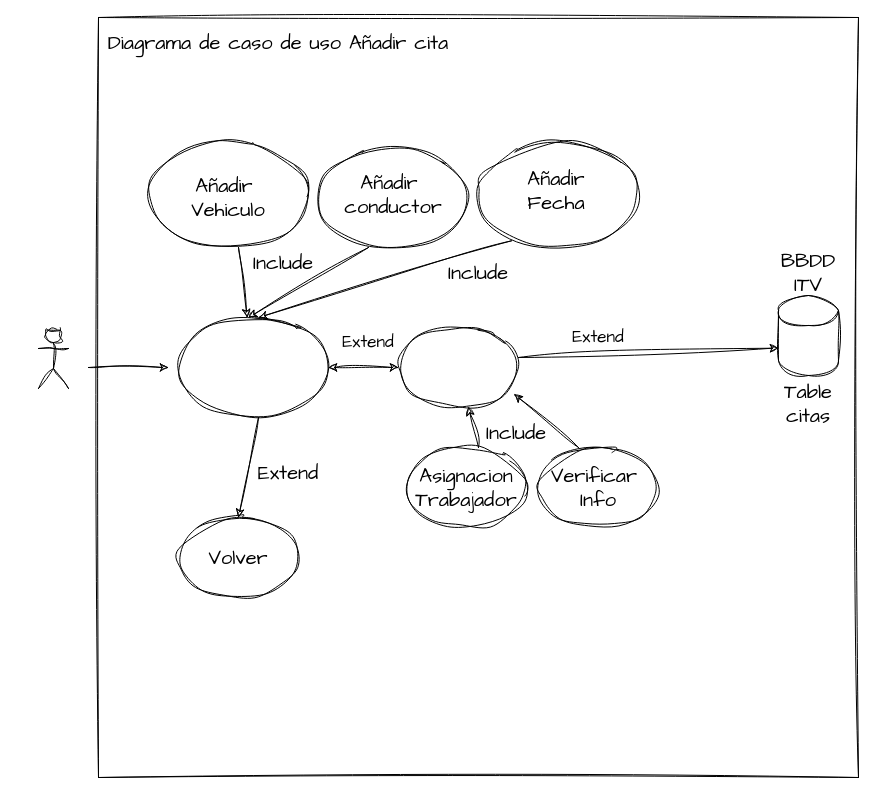
Image size: 876x795. Some labels were removed from this diagram. The shapes that lost their labels are listed below. From the top down, each one's box as (x1, y1, x2, y2) in pixels, then its label:
(38, 328, 68, 388): Tecnico
(178, 316, 328, 418): Añadir cita
(398, 326, 518, 408): confirmar
